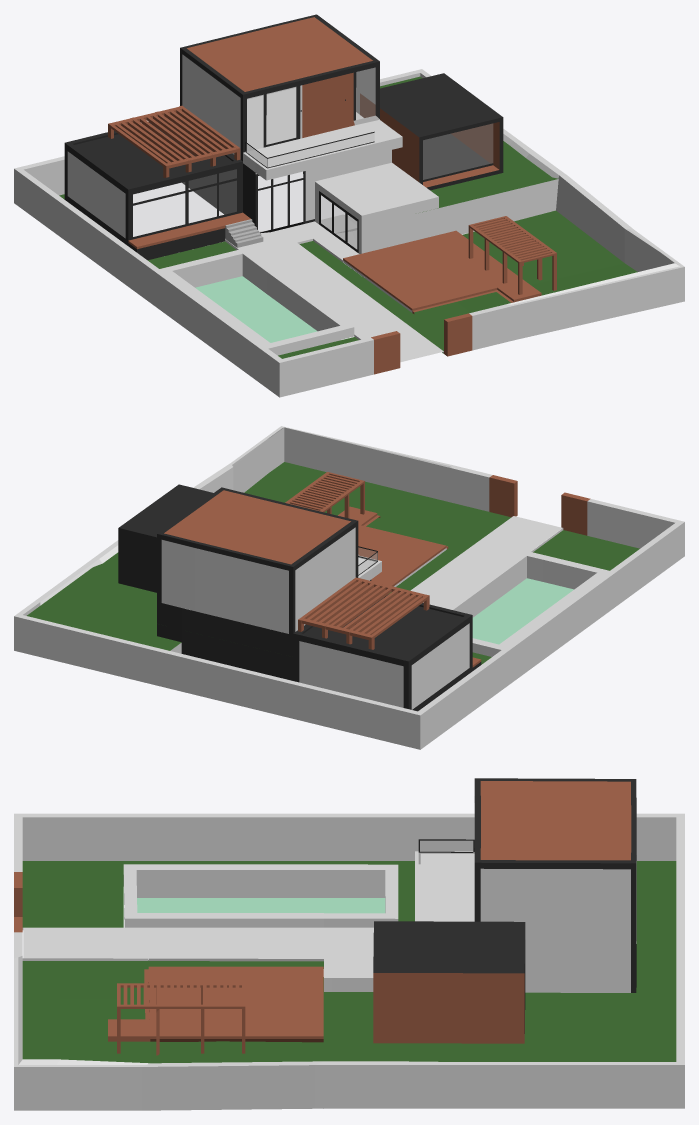
3 views of the same model, one above another, from view 1: azimuth 30°, elevation 25°; view 2: azimuth 150°, elevation 25°; view 3: azimuth 270°, elevation 25° (orthographic). The views are drawn at different scales.
Visible parts, largest first — view 1: Plane.058; view 2: Plane.058; view 3: Plane.058.
Boxes of the visible parts, x1,y1,x2,y2 form: Plane.058: (14, 14, 684, 397); Plane.058: (14, 426, 684, 749); Plane.058: (14, 778, 684, 1110).
Size of the model in its own units: 53.54 by 18.39 by 60.36.
